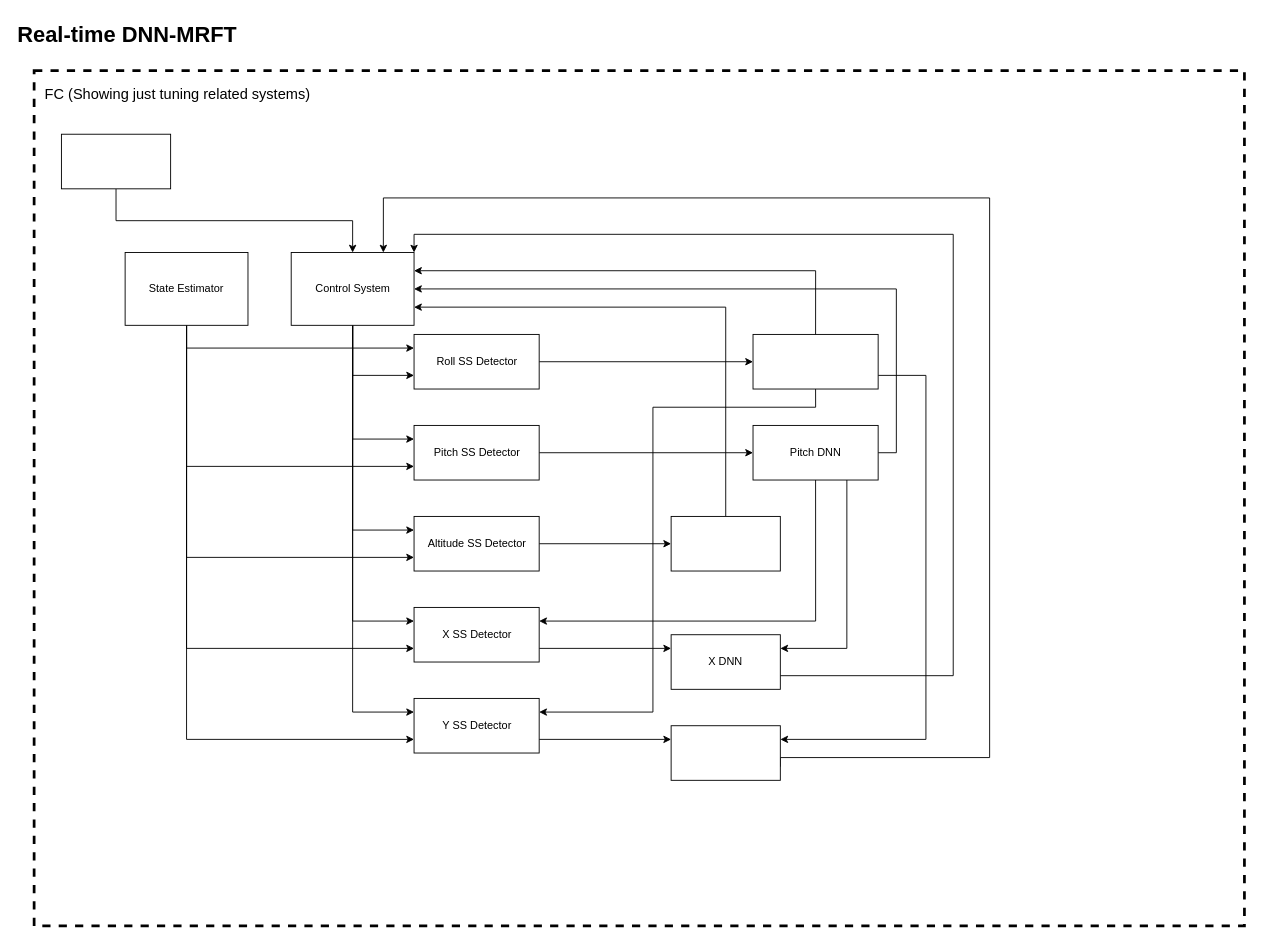
Image size: 1261x943. Some labels were removed from this diagram. Each missing label, with the box of its shape:
Altitude DNN: (670, 516, 780, 571)
FSAC Manager: (61, 133, 171, 189)
Roll DNN: (752, 334, 878, 389)
Y DNN: (670, 725, 780, 780)
